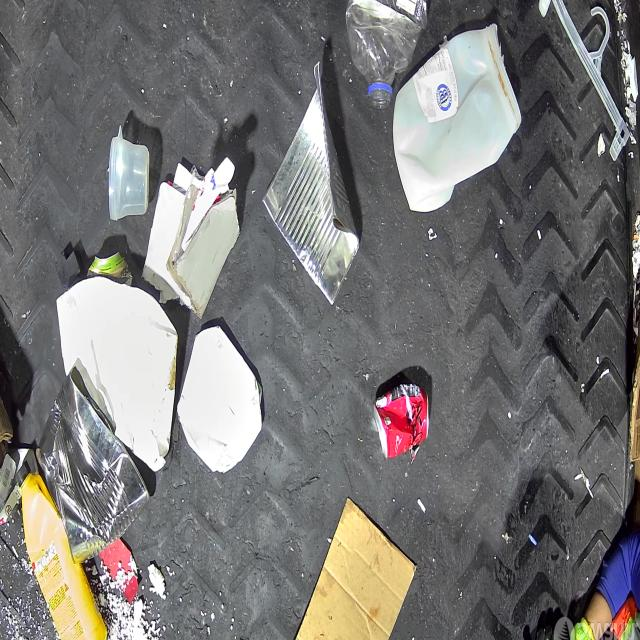can: (35, 367, 151, 563), (374, 384, 429, 462), (88, 252, 128, 286)
milk_jug: (392, 22, 521, 212)
non_white_jug: (16, 464, 108, 640)
plastic_bottle: (345, 0, 430, 109)
